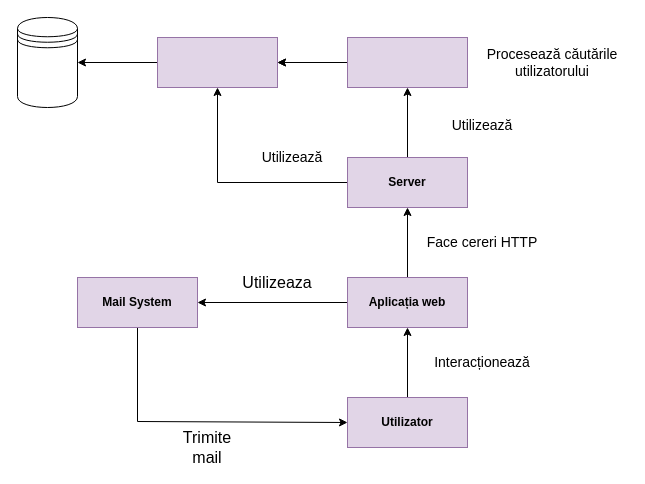
This 645x484 diagram has some shape labels left out. Here are the shapes that lost their labels. From the top down, the centre of each, then its label:
At (217,62): "Database Manager".
At (407,62): "Query Manager".
